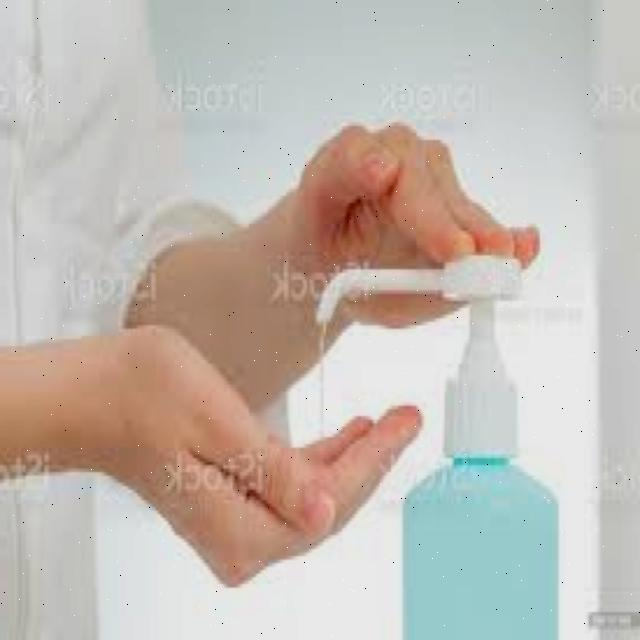liquid soap: (309, 253, 568, 640)
